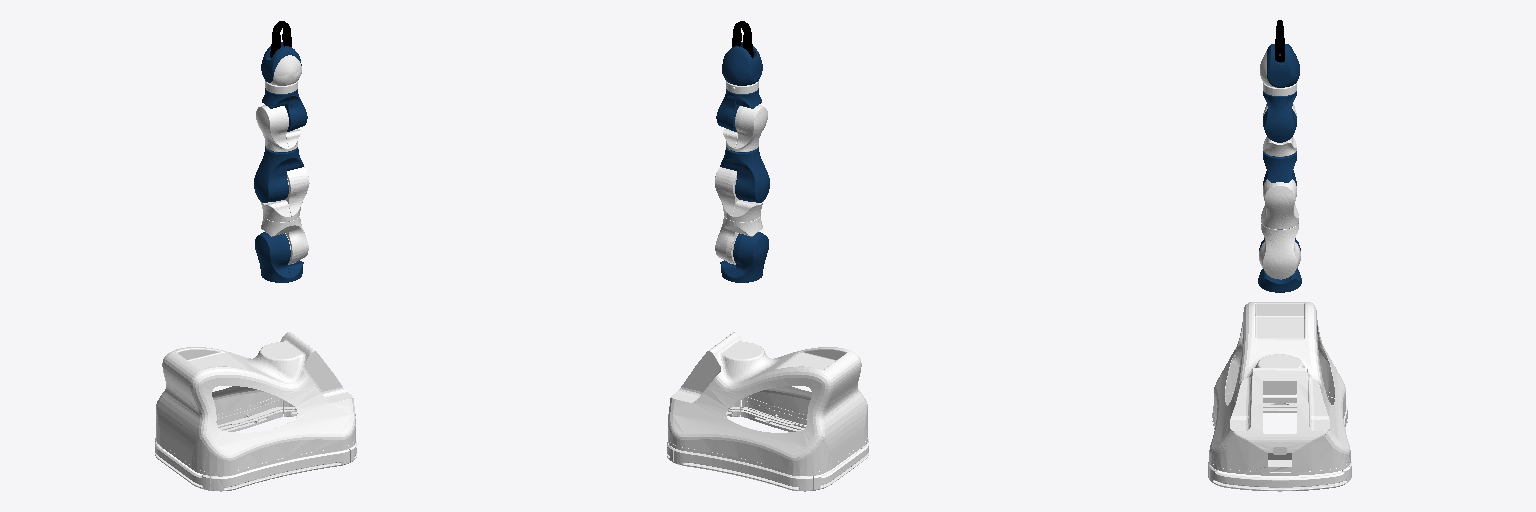
robot.urdf — lio:
<?xml version="1.0" ?>
<!-- =================================================================================== -->
<!-- |    This document was autogenerated by xacro from src/lio-developments/fp_messages/fp_descriptions/lio_description/urdf/LIO.urdf.xacro | -->
<!-- |    EDITING THIS FILE BY HAND IS NOT RECOMMENDED                                 | -->
<!-- =================================================================================== -->
<robot name="lio">
  <material name="blue">
    <color rgba="0.12549019607843137 0.2784313725490196 0.43529411764705883 1"/>
  </material>
  <material name="black">
    <color rgba="0 0 0 1"/>
  </material>
  <material name="white">
    <color rgba="1 1 1 1"/>
  </material>
  <link name="base_footprint">

  </link>
  <joint name="base_joint" type="fixed">
    <origin rpy="0 0 0" xyz="-0.113 0 0"/>
    <parent link="base_footprint"/>
    <child link="platform_base_link"/>
  </joint>
  <link name="platform_base_link">
    <visual>
      <geometry>
        <mesh filename="package://platform_description/meshes/platform_LIO.STL"/>
      </geometry>
      <origin rpy="0 0 1.57" xyz="0 0 -0.07"/>
      <material name="white"/>
    </visual>
  </link>
  <joint name="lidar_front_joint" type="fixed">
    <origin rpy="0 3.14 0" xyz="0.08202 0 -0.01"/>
    <parent link="base_footprint"/>
    <child link="lidar_front"/>
  </joint>
  <link name="lidar_front">
   </link>
  <joint name="lidar_back_joint" type="fixed">
    <origin rpy="0 3.14 3.14" xyz="-0.41803 0 -0.01"/>
    <parent link="base_footprint"/>
    <child link="lidar_back"/>
  </joint>
  <link name="lidar_back">
   </link>
  <joint name="ultrasonic1_joint" type="fixed">
    <origin rpy="0 0 3.14" xyz="-0.625 -0.095 0.053"/>
    <parent link="base_footprint"/>
    <child link="ultrasonic1"/>
  </joint>
  <link name="ultrasonic1">
   </link>
  <joint name="ultrasonic2_joint" type="fixed">
    <origin rpy="0 0 -2.355" xyz="-0.585 -0.231 0.053"/>
    <parent link="base_footprint"/>
    <child link="ultrasonic2"/>
  </joint>
  <link name="ultrasonic2">
   </link>
  <joint name="ultrasonic3_joint" type="fixed">
    <origin rpy="0 0 -1.57" xyz="-0.272 -0.255 0.053"/>
    <parent link="base_footprint"/>
    <child link="ultrasonic3"/>
  </joint>
  <link name="ultrasonic3">
   </link>
  <joint name="ultrasonic4_joint" type="fixed">
    <origin rpy="0 0 -0.785" xyz="0.097 -0.255 0.053"/>
    <parent link="base_footprint"/>
    <child link="ultrasonic4"/>
  </joint>
  <link name="ultrasonic4">
   </link>
  <joint name="ultrasonic5_joint" type="fixed">
    <origin rpy="0 0 -0.07" xyz="0.145 -0.121 0.053"/>
    <parent link="base_footprint"/>
    <child link="ultrasonic5"/>
  </joint>
  <link name="ultrasonic5">
   </link>
  <joint name="ultrasonic6_joint" type="fixed">
    <origin rpy="0 0 0.07" xyz="0.145 0.121 0.053"/>
    <parent link="base_footprint"/>
    <child link="ultrasonic6"/>
  </joint>
  <link name="ultrasonic6">
   </link>
  <joint name="ultrasonic7_joint" type="fixed">
    <origin rpy="0 0 0.785" xyz="0.097 0.255 0.053"/>
    <parent link="base_footprint"/>
    <child link="ultrasonic7"/>
  </joint>
  <link name="ultrasonic7">
   </link>
  <joint name="ultrasonic8_joint" type="fixed">
    <origin rpy="0 0 1.57" xyz="-0.272 0.255 0.053"/>
    <parent link="base_footprint"/>
    <child link="ultrasonic8"/>
  </joint>
  <link name="ultrasonic8">
   </link>
  <joint name="ultrasonic9_joint" type="fixed">
    <origin rpy="0 0 2.355" xyz="-0.585 0.231 0.053"/>
    <parent link="base_footprint"/>
    <child link="ultrasonic9"/>
  </joint>
  <link name="ultrasonic9">
   </link>
  <joint name="ultrasonic10_joint" type="fixed">
    <origin rpy="0 0 3.14" xyz="-0.625 0.095 0.053"/>
    <parent link="base_footprint"/>
    <child link="ultrasonic10"/>
  </joint>
  <link name="ultrasonic10">
   </link>
  <joint name="LIO_robot_base_link_joint" type="fixed">
    <origin rpy="0 0 0" xyz="0 0 -0.0725"/>
    <child link="LIO_base_link"/>
    <parent link="platform_base_link"/>
  </joint>
  <link name="LIO_base_link">
    <inertial>
      <origin rpy="0 0 0" xyz="-0 0 0 "/>
      <mass value="42.2499541196203"/>
      <inertia ixx="2.19278239601341" ixy="-0.00608161487223685" ixz="-0.000366786945712441" iyy="2.04392192430378" iyz="-0.137313138030081" izz="1.93900754024424"/>
    </inertial>
  </link>
  <joint name="Lio_base_joint" type="fixed">
    <origin rpy="0 0 1.57" xyz="0 0 0.6"/>
    <parent link="LIO_base_link"/>
    <child link="LIO_robot_base_link"/>
  </joint>
  <joint name="rgbd_up_link_mount_joint" type="fixed">
    <origin rpy=" 0 -0.55 0" xyz="0.23179 0.0175 0.12755"/>
    <parent link="LIO_base_link"/>
    <child link="rgbd_up_link_mount"/>
  </joint>
  <link name="rgbd_up_link_mount"/>
  <joint name="rgbd_down_link_mount_joint" type="fixed">
    <origin rpy="0 0.40 0 " xyz="0.23179 0.0175 0.15803 "/>
    <parent link="LIO_base_link"/>
    <child link="rgbd_down_link_mount"/>
  </joint>
  <link name="rgbd_down_link_mount"/>
  <joint name="fisheye_fisheye_base_housing_joint" type="fixed">
    <insert_block name="origin"/>
    <parent link="LIO_base_link"/>
    <child link="fisheye_fisheye_base_housing_frame"/>
  </joint>
  <!--TODO: verify intertial and collision parameters -->
  <link name="fisheye_fisheye_base_housing_frame">
    <!-- TODO fisheye not correctly placed for Lioc (under Lio in center)
      <visual>
        <origin xyz="0 0 0" rpy="${pi/2} 0 ${-pi/2}"/>
        <geometry>
          <box size="0.025 0.025 0.025" />
        </geometry>
      </visual>
      <collision>
        <origin xyz="0 0 0" rpy="0 0 0"/>
        <geometry>
          <box size="0.0130 0.0567 0.0118"/>
        </geometry>
      </collision>
      -->
    <!-- This inertial field doesn't contain reliable data!! -->
    <inertial>
      <mass value="0.564"/>
      <origin xyz="0 0 0"/>
      <inertia ixx="0.003881243" ixy="0.0" ixz="0.0" iyy="0.000498940" iyz="0.0" izz="0.003879257"/>
    </inertial>
  </link>
  <joint name="fisheye_base_link_joint" type="fixed">
    <origin rpy="0 0 0" xyz="0 -0.025 0.0025"/>
    <parent link="fisheye_fisheye_base_housing_frame"/>
    <child link="fisheye_base_link_mount"/>
  </joint>
  <link name="fisheye_base_link_mount"/>
  <joint name="lio_joint1" type="revolute">
    <origin rpy="0 0 0" xyz="0 0 0.212"/>
    <!-- <origin xyz="0 0 0.212" rpy="0 0 0" /> -->
    <parent link="LIO_robot_base_link"/>
    <child link="lio_link12"/>
    <limit effort="150" lower="-2.9670597283903604" upper="2.9670597283903604" velocity="1.658062789394613"/>
    <axis xyz="0 0 1"/>
    <dynamics damping="5.0" friction="5.0"/>
  </joint>
  <transmission name="lio_joint1_trans">
    <type>transmission_interface/SimpleTransmission</type>
    <actuator name="lio_joint1_motor">
      <mechanicalReduction>1</mechanicalReduction>
    </actuator>
    <joint name="lio_joint1">
      <hardwareInterface>hardware_interface/PositionJointInterface</hardwareInterface>
    </joint>
  </transmission>
  <link name="lio_link12">
    <inertial>
      <origin rpy="0 0 0" xyz="8.71294630254049E-05 0.0 -0.00113740271757783"/>
      <mass value="3.652"/>
      <inertia ixx="0.06656" ixy="1e-05" ixz="1e-05" iyy="0.0661" iyz="0.00952" izz="0.0076"/>
    </inertial>
    <visual>
      <geometry>
        <mesh filename="package://p_arm_description/meshes/p_rob_2R/link12.STL"/>
      </geometry>
      <material name="blue"/>
    </visual>
    <collision>
      <geometry>
        <mesh filename="package://p_arm_description/meshes/p_rob_2R/link12.STL"/>
      </geometry>
    </collision>
  </link>
  <joint name="lio_joint2" type="revolute">
    <origin xyz="0 0 0.1505"/>
    <parent link="lio_link12"/>
    <child link="lio_link23"/>
    <limit effort="150" lower="-1.9198621771937625" upper="1.9198621771937625" velocity="1.658062789394613"/>
    <axis xyz="0 1 0"/>
    <dynamics damping="10.0" friction="5.0"/>
  </joint>
  <link name="lio_link23">
    <inertial>
      <origin xyz="8.71294630254052E-05 0.000951295697065868 -0.00113740271757783"/>
      <mass value="3.52"/>
      <inertia ixx="0.18406" ixy="2e-05" ixz="-8e-05" iyy="0.18142" iyz="0.01932" izz="0.00841"/>
    </inertial>
    <visual>
      <geometry>
        <mesh filename="package://p_arm_description/meshes/p_rob_2R/link23.STL"/>
      </geometry>
      <material name="white"/>
    </visual>
    <collision>
      <geometry>
        <mesh filename="package://p_arm_description/meshes/p_rob_2R/link23.STL"/>
      </geometry>
    </collision>
  </link>
  <joint name="lio_joint3" type="revolute">
    <origin xyz="0 0 0.29"/>
    <parent link="lio_link23"/>
    <child link="lio_link34"/>
    <limit effort="150" lower="-2.007128639793479" upper="2.007128639793479" velocity="1.658062789394613"/>
    <axis xyz="0 1 0"/>
    <dynamics damping="5.0" friction="5.0"/>
  </joint>
  <link name="lio_link34">
    <inertial>
      <origin rpy="0 0 0" xyz="8.71294630254052E-05 0.0 -0.00113740271757783"/>
      <mass value="1.626"/>
      <inertia ixx="0.02372" ixy="-2e-05" ixz="4e-05" iyy="0.02243" iyz="0.00024" izz="0.0343"/>
    </inertial>
    <visual>
      <geometry>
        <mesh filename="package://p_arm_description/meshes/p_rob_2R/link34.STL"/>
      </geometry>
      <material name="blue"/>
    </visual>
    <collision>
      <geometry>
        <mesh filename="package://p_arm_description/meshes/p_rob_2R/link34.STL"/>
      </geometry>
    </collision>
  </link>
  <joint name="lio_joint4" type="revolute">
    <origin xyz="0 0 0.1645"/>
    <parent link="lio_link34"/>
    <child link="lio_link45"/>
    <limit effort="55" lower="-2.9670597283903604" upper="2.9670597283903604" velocity="1.658062789394613"/>
    <axis xyz="0 0 1"/>
    <dynamics damping="5.0" friction="5.0"/>
  </joint>
  <link name="lio_link45">
    <inertial>
      <origin rpy="0 0 0" xyz="8.71294630254052E-05 0.0 -0.00113740271757783"/>
      <mass value="1.516"/>
      <inertia ixx="0.02488" ixy="2e-05" ixz="3e-05" iyy="0.02409" iyz="0.00398" izz="0.00272"/>
    </inertial>
    <visual>
      <geometry>
        <mesh filename="package://p_arm_description/meshes/p_rob_2R/link45.STL"/>
      </geometry>
      <material name="white"/>
    </visual>
    <collision>
      <geometry>
        <mesh filename="package://p_arm_description/meshes/p_rob_2R/link45.STL"/>
      </geometry>
    </collision>
  </link>
  <joint name="lio_joint5" type="revolute">
    <origin xyz="0 0 0.1455"/>
    <parent link="lio_link45"/>
    <child link="lio_link56"/>
    <limit effort="55" lower="-2.007128639793479" upper="2.007128639793479" velocity="1.658062789394613"/>
    <axis xyz="0 1 0"/>
    <dynamics damping="5.0" friction="5.0"/>
  </joint>
  <link name="lio_link56">
    <inertial>
      <origin xyz="-8.71294630254049E-05 0.0 0.00113740271757783"/>
      <mass value="1.417"/>
      <inertia ixx="0.01351" ixy="-2e-05" ixz="-3e-05" iyy="0.01261" iyz="-0.00012" izz="0.00274"/>
    </inertial>
    <visual>
      <geometry>
        <mesh filename="package://p_arm_description/meshes/p_rob_2R/link56.STL"/>
      </geometry>
      <material name="blue"/>
    </visual>
    <collision>
      <geometry>
        <mesh filename="package://p_arm_description/meshes/p_rob_2R/link56.STL"/>
      </geometry>
    </collision>
  </link>
  <joint name="lio_joint6" type="revolute">
    <origin xyz="0 0 0.129"/>
    <parent link="lio_link56"/>
    <child link="lio_link6G"/>
    <limit effort="30" lower="-2.9670597283903604" upper="2.9670597283903604" velocity="1.658062789394613"/>
    <axis xyz="0 0 1"/>
    <dynamics damping="5.0" friction="5.0"/>
  </joint>
  <link name="lio_link6G">
    <inertial>
      <origin xyz="-0.00113740271757783 0.0 8.7129463025477E-05"/>
      <mass value="0.435"/>
      <inertia ixx="0.00079" ixy="0.0" ixz="0.0" iyy="0.00086" iyz="-1e-05" izz="0.00084"/>
    </inertial>
    <visual>
      <geometry>
        <mesh filename="package://p_arm_description/meshes/p_rob_2R/link6G.STL"/>
      </geometry>
      <material name="white"/>
    </visual>
    <collision>
      <geometry>
        <mesh filename="package://p_arm_description/meshes/p_rob_2R/link6G.STL"/>
      </geometry>
    </collision>
  </link>
  <joint name="lio_gripper_interface_joint" type="fixed">
    <origin xyz="0 0 0.046"/>
    <parent link="lio_link6G"/>
    <child link="lio_gripper_interface_link"/>
  </joint>
  <link name="lio_gripper_interface_link">
    <inertial>
      <!-- the inertia values are guessed-->
      <origin xyz="0 0 0"/>
      <mass value="0.1"/>
      <inertia ixx="0.0001" ixy="0.9" ixz="0.0" iyy="0.0001" iyz="0.0" izz="0.0001"/>
    </inertial>
  </link>
  <gazebo>
    <plugin filename="libgazebo_ros_joint_state_publisher.so" name="joint_state_publisher">
      <jointName>lio_joint1, lio_joint2</jointName>
    </plugin>
  </gazebo>
  <link name="LIO_robot_base_link">
    <inertial>
      <origin rpy="0 0 1.57" xyz="-0 0 0.2345"/>
      <mass value="42.2499541196203"/>
      <inertia ixx="2.19278239601341" ixy="-0.00608161487223685" ixz="-0.000366786945712441" iyy="2.04392192430378" iyz="-0.137313138030081" izz="1.93900754024424"/>
    </inertial>
  </link>
  <joint name="lio_back_cover_joint" type="fixed">
    <parent link="lio_gripper_interface_link"/>
    <child link="lio_back_cover"/>
  </joint>
  <link name="lio_back_cover">
    <inertial>
      <origin xyz="2.24196111270369E-06 -0.00408460946644196 -0.0510660065280277"/>
      <mass value="0.82454352978473"/>
      <inertia ixx="0.00151927417232363" ixy="-3.02654547820246E-07" ixz="-4.4543064624827E-08" iyy="0.00163894166884312" iyz="-2.0883019834409E-05" izz="0.00153211830480003"/>
    </inertial>
    <visual>
      <geometry>
        <mesh filename="package://p_grip_description/meshes/p_grip_2F/back_cover.STL"/>
      </geometry>
      <material name="white"/>
    </visual>
    <collision>
      <geometry>
        <mesh filename="package://p_grip_description/meshes/p_grip_2F/back_cover.STL"/>
      </geometry>
    </collision>
  </link>
  <!-- Main body of the gripper. -->
  <joint name="lio_p_grip_connector" type="fixed">
    <origin rpy="0 -1.57 3.14" xyz="-0.052 0 0.052"/>
    <parent link="lio_gripper_interface_link"/>
    <child link="lio_gripper_link"/>
  </joint>
  <link name="lio_gripper_link">
    <inertial>
      <origin xyz="2.24196111270369E-06 -0.00408460946644196 -0.0510660065280277"/>
      <mass value="0.82454352978473"/>
      <inertia ixx="0.00151927417232363" ixy="-3.02654547820246E-07" ixz="-4.4543064624827E-08" iyy="0.00163894166884312" iyz="-2.0883019834409E-05" izz="0.00153211830480003"/>
    </inertial>
    <visual>
      <geometry>
        <mesh filename="package://p_grip_description/meshes/p_grip_2F/p_grip.STL"/>
      </geometry>
      <material name="blue"/>
    </visual>
    <collision>
      <geometry>
        <mesh filename="package://p_grip_description/meshes/p_grip_2F/p_grip.STL"/>
      </geometry>
    </collision>
  </link>
  <!-- The left finger can be actuated via ROS. -->
  <joint name="lio_gripper_joint" type="revolute">
    <origin rpy="0 0 0" xyz="0.0645 0 0.052"/>
    <parent link="lio_gripper_link"/>
    <child link="lio_left_finger"/>
    <limit effort="50" lower="0.0" upper="0.5235987755982988" velocity="1.0471975511965976"/>
    <axis xyz="0 0 1"/>
  </joint>
  <link name="lio_left_finger">
    <inertial>
      <!-- the inertia values are guessed-->
      <origin xyz="0 0 0"/>
      <mass value="0.1"/>
      <inertia ixx="0.0001" ixy="0.9" ixz="0.0" iyy="0.0001" iyz="0.0" izz="0.0001"/>
    </inertial>
    <visual>
      <origin rpy="0 0 0"/>
      <geometry>
        <mesh filename="package://p_grip_description/meshes/p_grip_2F/finger.STL"/>
      </geometry>
      <material name="black"/>
    </visual>
    <collision>
      <origin rpy="0 0 0"/>
      <geometry>
        <mesh filename="package://p_grip_description/meshes/p_grip_2F/finger.STL"/>
      </geometry>
    </collision>
  </link>
  <!-- The right finger simply mirrors the left one. -->
  <joint name="lio_passive_gripper_joint" type="revolute">
    <mimic joint="lio_gripper_joint" multiplier="-1" offset="0"/>
    <origin rpy="0 0 0" xyz="0.0645 0 0.052"/>
    <parent link="lio_gripper_link"/>
    <child link="lio_right_finger"/>
    <limit effort="1000.0" lower="-0.5235987755982988" upper="0.0" velocity="170"/>
    <axis xyz="0 0 1"/>
  </joint>
  <link name="lio_right_finger">
    <inertial>
      <!-- the inertia values are guessed-->
      <origin xyz="0 0 0"/>
      <mass value="0.1"/>
      <inertia ixx="0.0001" ixy="0.9" ixz="0.0" iyy="0.0001" iyz="0.0" izz="0.0001"/>
    </inertial>
    <visual>
      <origin rpy="3.141592653589793 0 0"/>
      <geometry>
        <mesh filename="package://p_grip_description/meshes/p_grip_2F/finger.STL"/>
      </geometry>
      <material name="black"/>
    </visual>
    <collision>
      <origin rpy="3.141592653589793 0 0"/>
      <geometry>
        <mesh filename="package://p_grip_description/meshes/p_grip_2F/finger.STL"/>
      </geometry>
    </collision>
  </link>
  <!-- The tool center point is used for kinematics and path planning. -->
  <joint name="lio_tcp_joint" type="fixed">
    <origin rpy="0 0 0" xyz="0.189 0 0.052"/>
    <parent link="lio_gripper_link"/>
    <child link="lio_tcp_link"/>
  </joint>
  <link name="lio_tcp_link">
    <inertial>
      <!-- the inertia values are guessed-->
      <origin xyz="0 0 0"/>
      <mass value="0.1"/>
      <inertia ixx="0.0001" ixy="0.9" ixz="0.0" iyy="0.0001" iyz="0.0" izz="0.0001"/>
    </inertial>
  </link>
  <joint name="lio_tis_cam_joint" type="fixed">
    <origin rpy="-1.5707963267948966 0.0 -1.5707963267948966" xyz="-0.095 0.0 0.053"/>
    <parent link="lio_tcp_link"/>
    <child link="tis_cam"/>
  </joint>
  <link name="tis_cam">
    <inertial>
      <!-- the inertia values are guessed but needed for gazebo -->
      <origin xyz="0 0 0"/>
      <mass value="0.001"/>
      <inertia ixx="0.0001" ixy="0.9" ixz="0.0" iyy="0.0001" iyz="0.0" izz="0.0001"/>
    </inertial>
  </link>
  <!-- we need this joint and link for the camera plugin in gazebo the x is taken for camera direction -->
  <joint name="lio_tis_cam_sim_plugin_joint" type="fixed">
    <origin rpy="0 -1.5707963267948966 0" xyz="0.0 0.0 0.0"/>
    <parent link="tis_cam"/>
    <child link="tis_cam_sim_plugin"/>
  </joint>
  <link name="tis_cam_sim_plugin">
    <inertial>
      <!-- the inertia values are guessed but needed for gazebo -->
      <origin xyz="0 0 0"/>
      <mass value="0.001"/>
      <inertia ixx="0.0001" ixy="0.9" ixz="0.0" iyy="0.0001" iyz="0.0" izz="0.0001"/>
    </inertial>
  </link>
</robot>

--- What the picture shows (computed from the rendered views, not written in the file) ---
The picture shows the robot from 3 angles, left to right: view 1: azimuth 30°, elevation 25°; view 2: azimuth 150°, elevation 25°; view 3: azimuth 270°, elevation 25°; orthographic projection.
Model lio with 34 links and 33 joints (8 revolute, 25 fixed), rooted at base_footprint, posed every joint at zero.
Links seen in each view (by area): view 1: platform_base_link, lio_link23, lio_link34, lio_link12, lio_link45, lio_link56, lio_back_cover, lio_gripper_link; view 2: platform_base_link, lio_link23, lio_link34, lio_link12, lio_link45, lio_gripper_link, lio_link56; view 3: platform_base_link, lio_link23, lio_link56, lio_gripper_link, lio_link34, lio_link12, lio_link45.
Link boxes in pixels (x1=…): platform_base_link: x1=155, y1=332, x2=356, y2=491; lio_link23: x1=260, y1=167, x2=309, y2=264; lio_link34: x1=254, y1=146, x2=303, y2=202; lio_link12: x1=255, y1=232, x2=303, y2=282; lio_link45: x1=256, y1=105, x2=300, y2=151; lio_link56: x1=262, y1=88, x2=307, y2=131; lio_back_cover: x1=269, y1=55, x2=301, y2=85; lio_gripper_link: x1=261, y1=42, x2=301, y2=82; platform_base_link: x1=667, y1=332, x2=868, y2=491; lio_link23: x1=715, y1=167, x2=763, y2=264; lio_link34: x1=720, y1=147, x2=769, y2=202; lio_link12: x1=720, y1=232, x2=768, y2=282; lio_link45: x1=723, y1=105, x2=767, y2=151; lio_gripper_link: x1=722, y1=42, x2=762, y2=85; lio_link56: x1=716, y1=88, x2=761, y2=131; platform_base_link: x1=1208, y1=302, x2=1351, y2=491; lio_link23: x1=1259, y1=179, x2=1300, y2=279; lio_link56: x1=1263, y1=91, x2=1296, y2=142; lio_gripper_link: x1=1267, y1=44, x2=1299, y2=87; lio_link34: x1=1263, y1=151, x2=1296, y2=185; lio_link12: x1=1258, y1=238, x2=1301, y2=292; lio_link45: x1=1263, y1=104, x2=1296, y2=156.
Size in the robot's own frame: 0.7901 by 0.5814 by 1.98 metres.
Meshes: 10 distinct files referenced, 11 mesh visuals loaded (10 binary STL).
